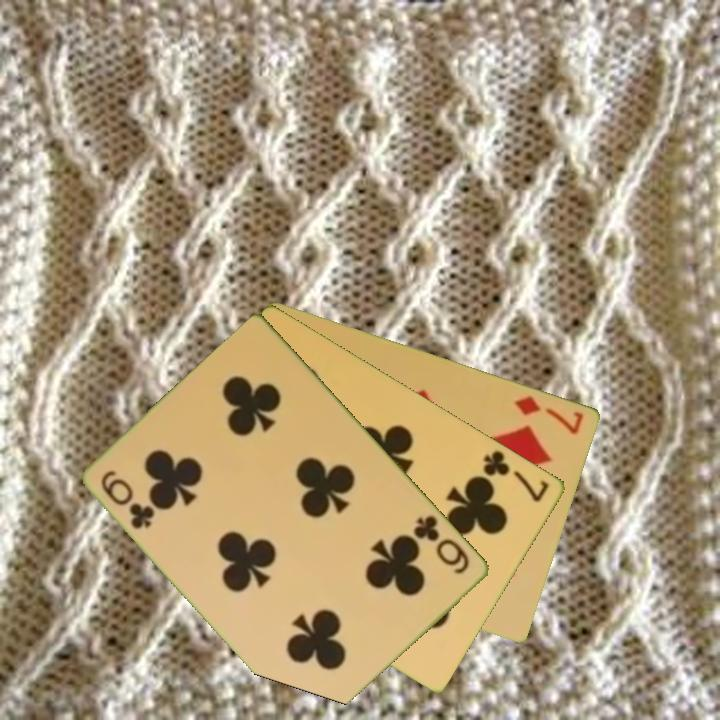6c: (410, 512, 473, 578), (97, 466, 159, 532)
7c: (480, 446, 553, 505)
7d: (512, 392, 587, 437)
